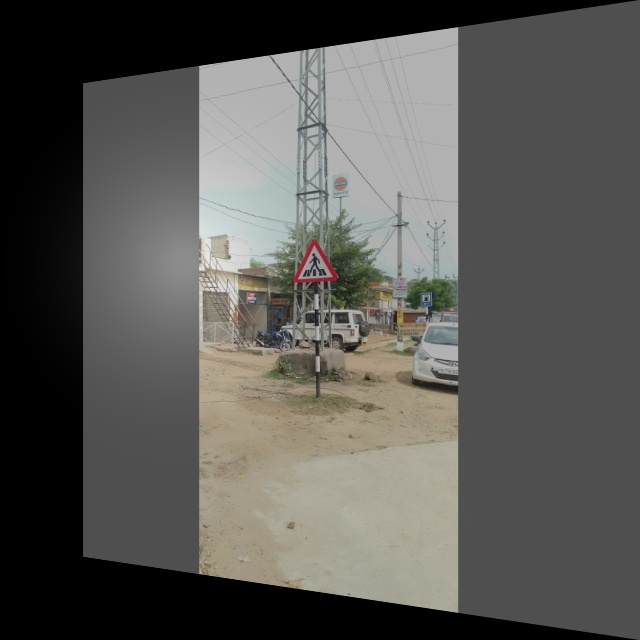Pedestrian_Crossing: (290, 236, 340, 287)
